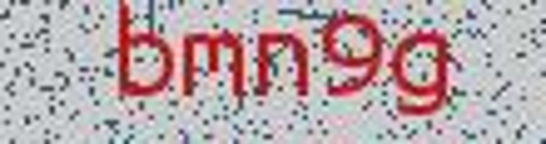9: (318, 7, 387, 112)
b: (109, 1, 178, 110)
g: (386, 17, 453, 122)
m: (180, 24, 250, 106)
n: (253, 25, 313, 106)
